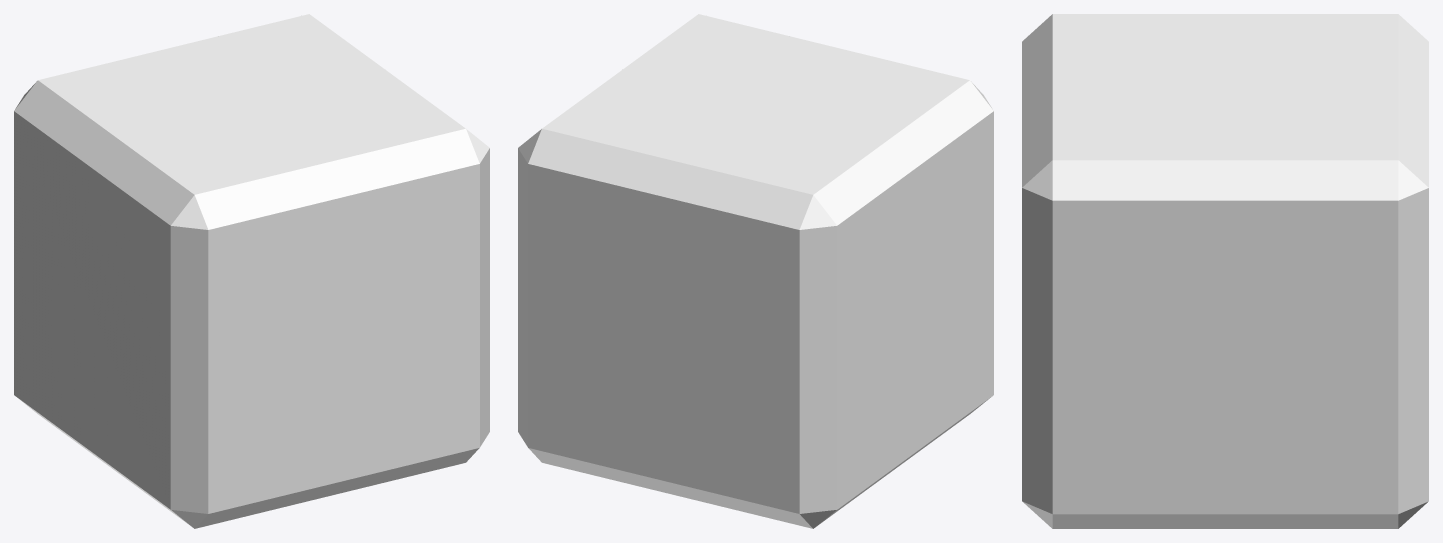
Rendered from eff_stag_MI_gld.obj.
3 renders of one model, left to right at view 1: azimuth 30°, elevation 25°; view 2: azimuth 150°, elevation 25°; view 3: azimuth 270°, elevation 25°, orthographic. The views are drawn at different scales.
Visible parts, largest first — view 1: polygon0, polygon5, polygon7, polygon1, polygon6, polygon2; view 2: polygon0, polygon6, polygon8, polygon4, polygon5, polygon3; view 3: polygon0, polygon1, polygon4, polygon2, polygon3, polygon5, polygon6.
Boxes of the visible parts, left/top/right/bottom form: polygon0: left=14, top=14, right=479, bottom=513; polygon5: left=92, top=137, right=343, bottom=371; polygon7: left=95, top=368, right=343, bottom=528; polygon1: left=330, top=128, right=489, bottom=304; polygon6: left=14, top=80, right=115, bottom=168; polygon2: left=330, top=290, right=489, bottom=495; polygon0: left=528, top=14, right=993, bottom=513; polygon6: left=664, top=137, right=915, bottom=371; polygon8: left=664, top=368, right=912, bottom=528; polygon4: left=518, top=128, right=677, bottom=304; polygon5: left=892, top=80, right=993, bottom=168; polygon3: left=518, top=290, right=677, bottom=495; polygon0: left=1052, top=14, right=1398, bottom=514; polygon1: left=1022, top=87, right=1225, bottom=357; polygon4: left=1225, top=87, right=1428, bottom=357; polygon2: left=1022, top=344, right=1225, bottom=528; polygon3: left=1225, top=344, right=1428, bottom=528; polygon5: left=1022, top=14, right=1052, bottom=114; polygon6: left=1398, top=14, right=1428, bottom=114.
Size of the model in its own units: 15.3 by 15.3 by 15.3.
Materials: 1 (1 with a texture image).
